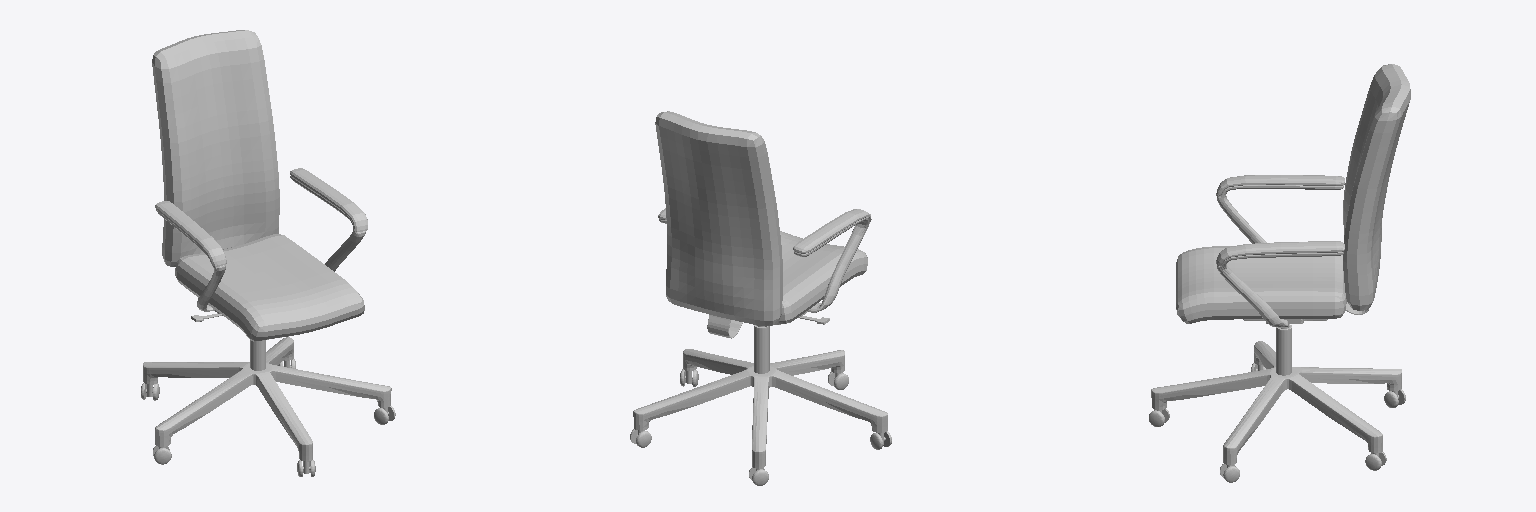
File: uploads_files_2164682_Office_chair_type_03.obj
3 renders of one model, left to right at view 1: azimuth 30°, elevation 25°; view 2: azimuth 150°, elevation 25°; view 3: azimuth 270°, elevation 25°, orthographic.
Visible parts, largest first — view 1: Office_chair_type3; view 2: Office_chair_type3; view 3: Office_chair_type3.
Boxes of the visible parts, x1=… form: Office_chair_type3: x1=141, y1=30, x2=395, y2=476; Office_chair_type3: x1=630, y1=111, x2=891, y2=485; Office_chair_type3: x1=1149, y1=64, x2=1410, y2=482.
Size of the model in its own units: 2.04 by 3.01 by 2.06.